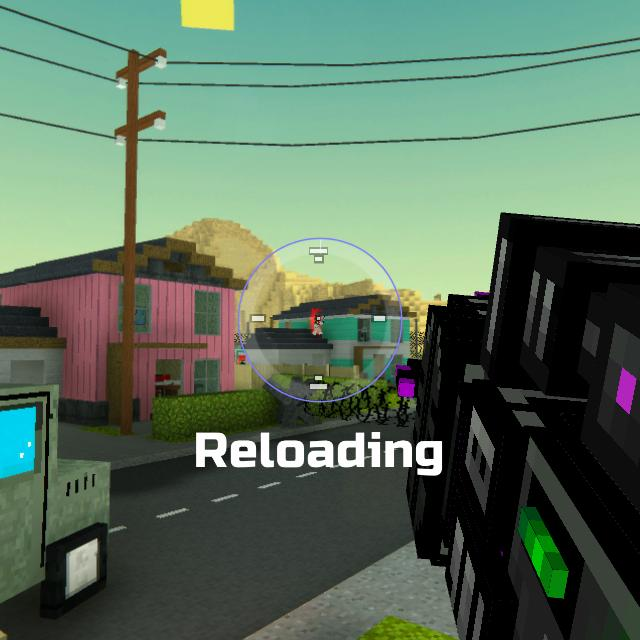Enemy: (312, 315, 323, 335)
